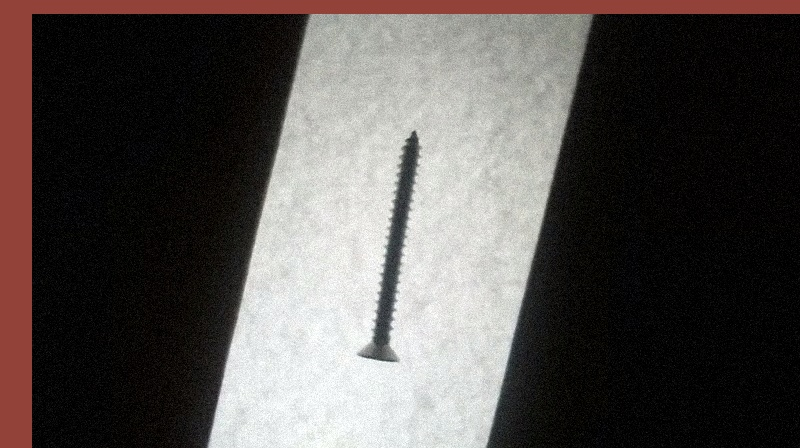S002: (354, 128, 423, 365)
